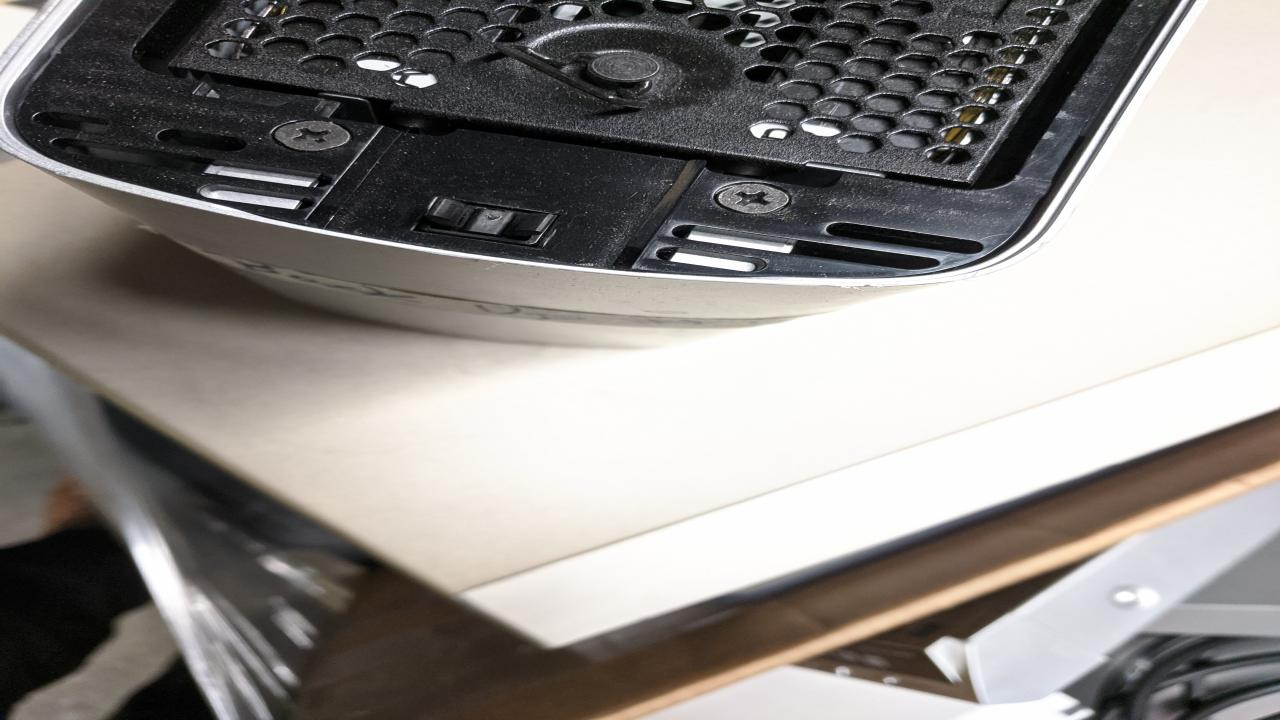CRS: (709, 182, 793, 216), (272, 120, 354, 152)
